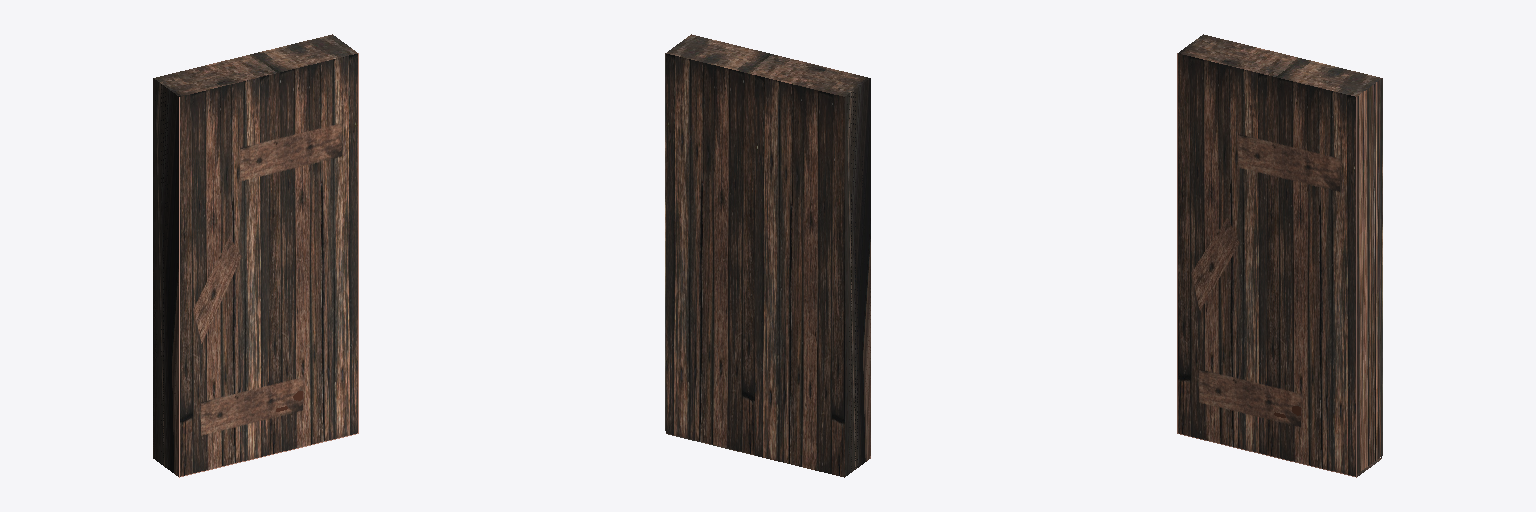
The picture shows the model from 3 angles: view 1: azimuth 30°, elevation 25°; view 2: azimuth 150°, elevation 25°; view 3: azimuth 330°, elevation 25°; orthographic projection.
Parts seen in each view (by area): view 1: puertaCuarto:pCube68; view 2: puertaCuarto:pCube68; view 3: puertaCuarto:pCube68.
Boxes of the visible parts, box(x1,y1,x2,y2) form: puertaCuarto:pCube68: box(153, 34, 358, 477); puertaCuarto:pCube68: box(665, 34, 870, 477); puertaCuarto:pCube68: box(1177, 34, 1382, 477).
Bounding box in the file's own units: 0.2 × 0.406 × 0.05.
2 materials, 2 textured.